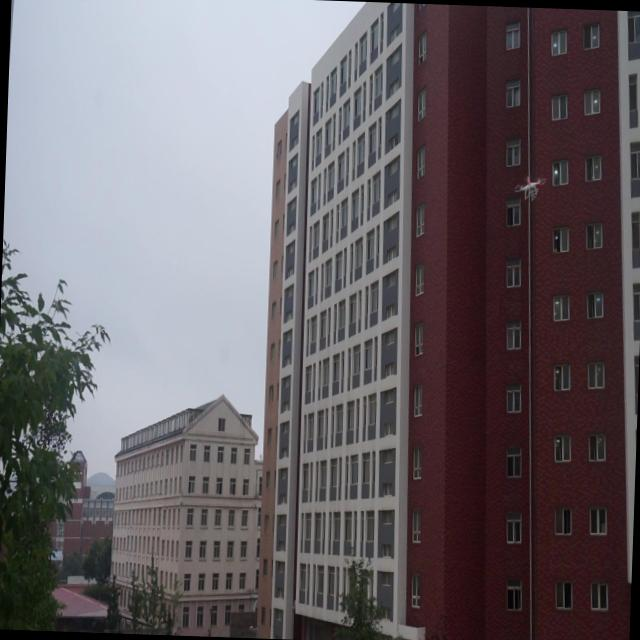drone: (512, 170, 546, 206)
